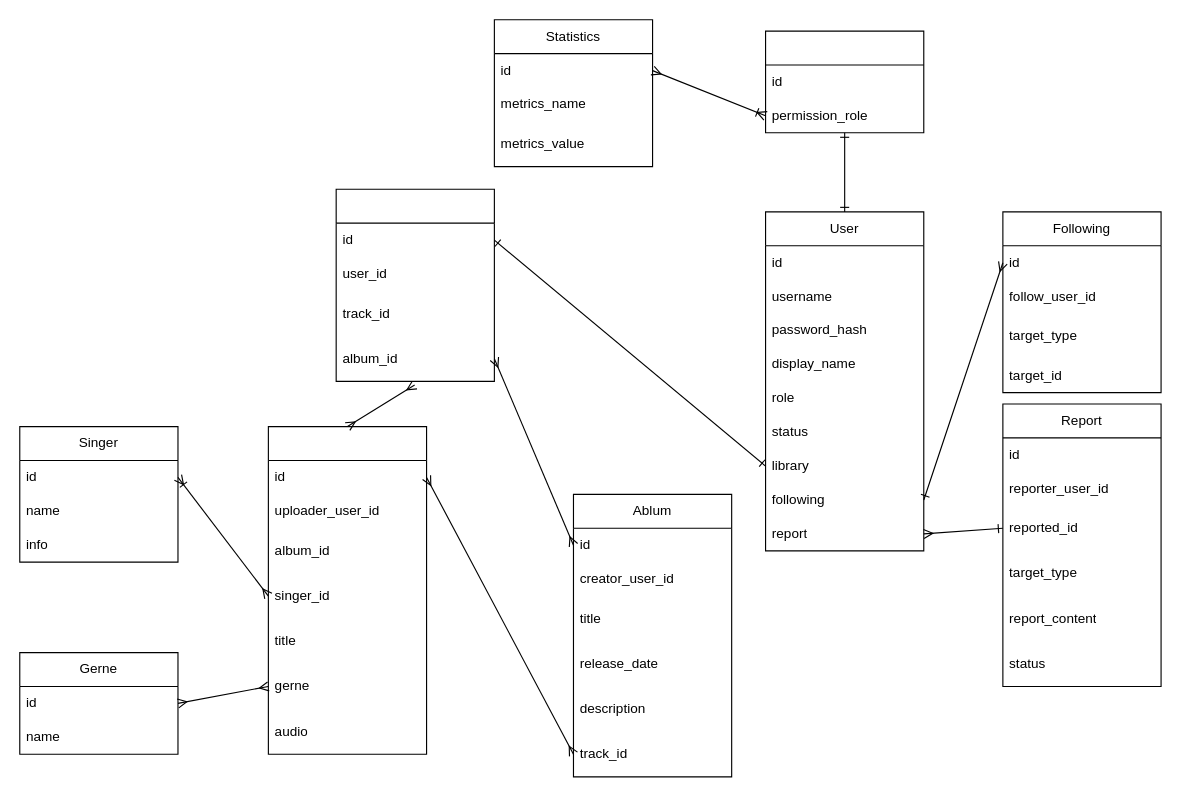
The diagram is 1181 pixels wide and 797 high, and some of its shapes have lost their labels. Here are the shapes that lost their labels. From the top down, the box of each, then its label:
(764, 30, 924, 133): Admin
(335, 188, 494, 381): UserLibrary
(267, 425, 427, 754): Track
